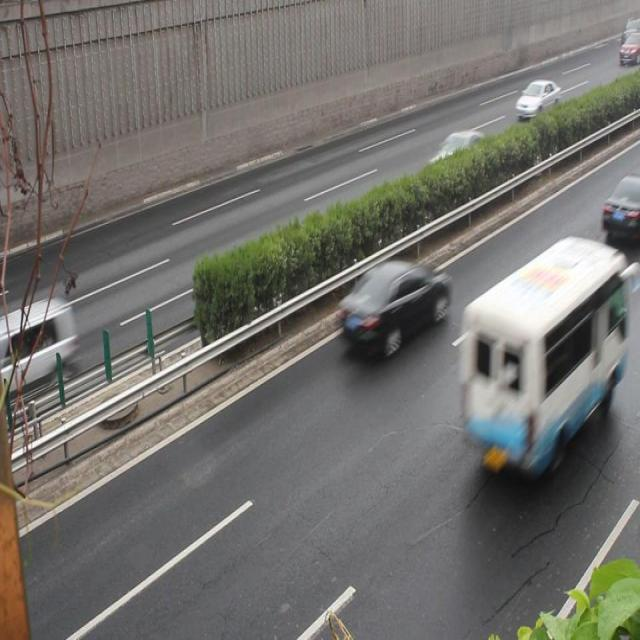car: (339, 260, 449, 355), (1, 294, 74, 393), (424, 130, 491, 192), (600, 174, 640, 238), (514, 78, 560, 122)
van: (458, 234, 619, 468)
